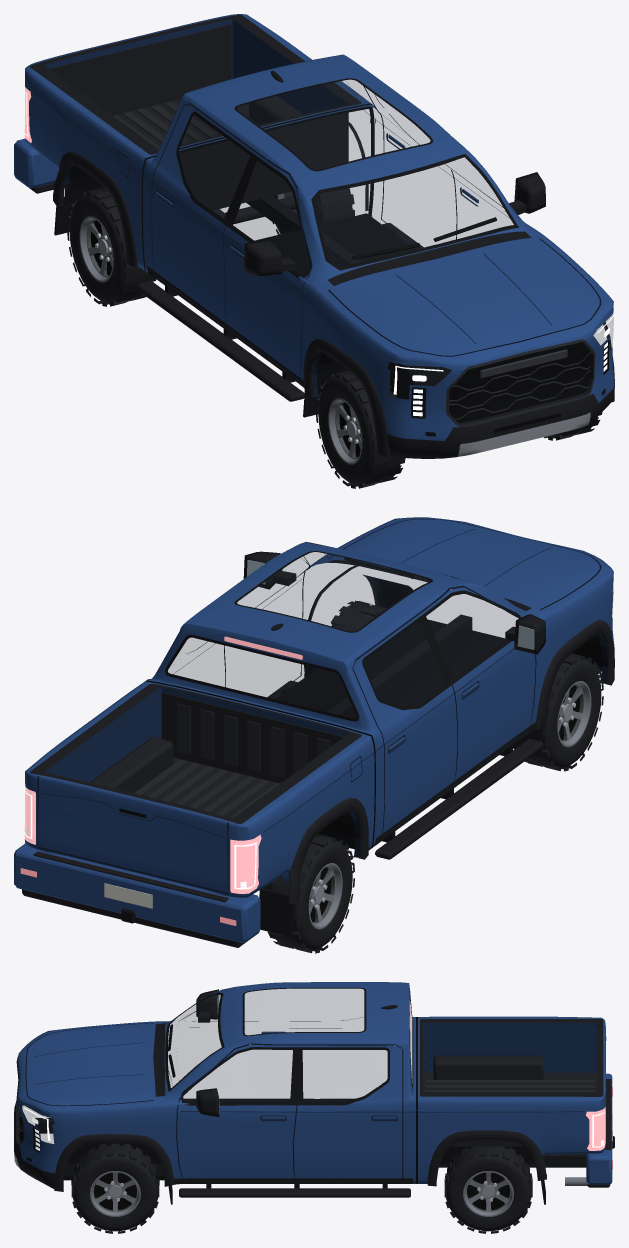
The model's file is car_pickup_blue.glb.
The picture shows the model from 3 angles, top to bottom: view 1: azimuth 30°, elevation 25°; view 2: azimuth 150°, elevation 25°; view 3: azimuth 270°, elevation 25°; orthographic projection. The views are drawn at different scales.
Parts seen in each view (by area): view 1: body, wheel_fl, wheel_rl, wheel_rr; view 2: body, wheel_rl, wheel_fl, wheel_fr; view 3: body, wheel_fr, wheel_rr.
Part boxes in pixels (x1=…): body: x1=14, y1=14, x2=614, y2=458; wheel_fl: x1=316, y1=370, x2=405, y2=488; wheel_rl: x1=67, y1=187, x2=156, y2=306; wheel_rr: x1=272, y1=188, x2=354, y2=234; body: x1=14, y1=517, x2=614, y2=947; wheel_rl: x1=266, y1=834, x2=354, y2=953; wheel_fl: x1=524, y1=653, x2=603, y2=771; wheel_fr: x1=330, y1=600, x2=386, y2=660; body: x1=14, y1=982, x2=614, y2=1204; wheel_fr: x1=71, y1=1143, x2=159, y2=1233; wheel_rr: x1=444, y1=1146, x2=532, y2=1233.
Size of the model in its own units: 2.53 by 2.05 by 5.96.
